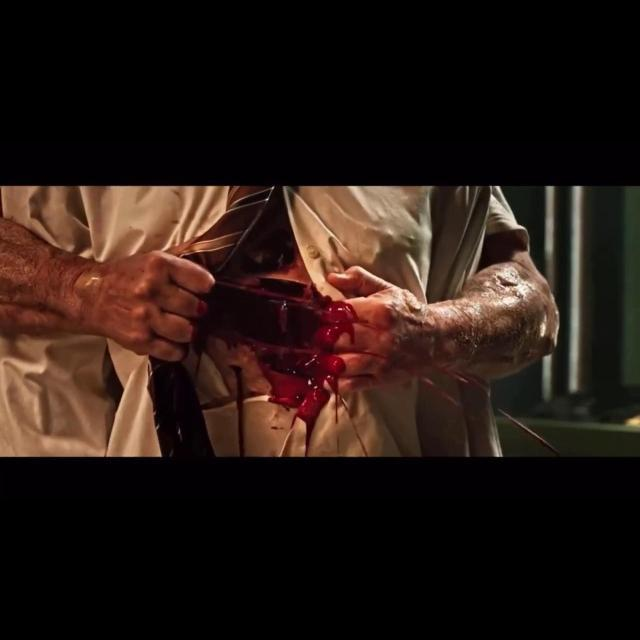blood: (203, 245, 358, 436)
